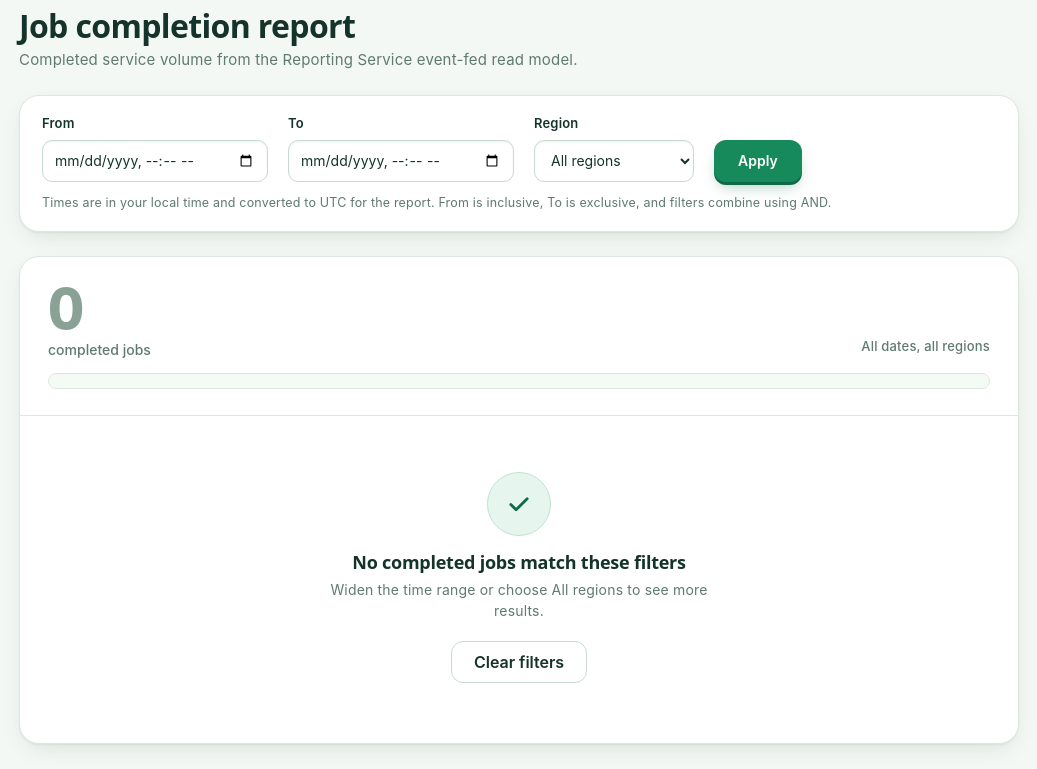
Test: Job completion dynamic report › displays validation feedback when backend returns 400 on apply
The image size is (1037, 769).
Expected: the heading "No completed jobs match these filters" is shown, [352, 550, 686, 574]
Click the button "Apply" at (758,161), box [714, 140, 802, 182]
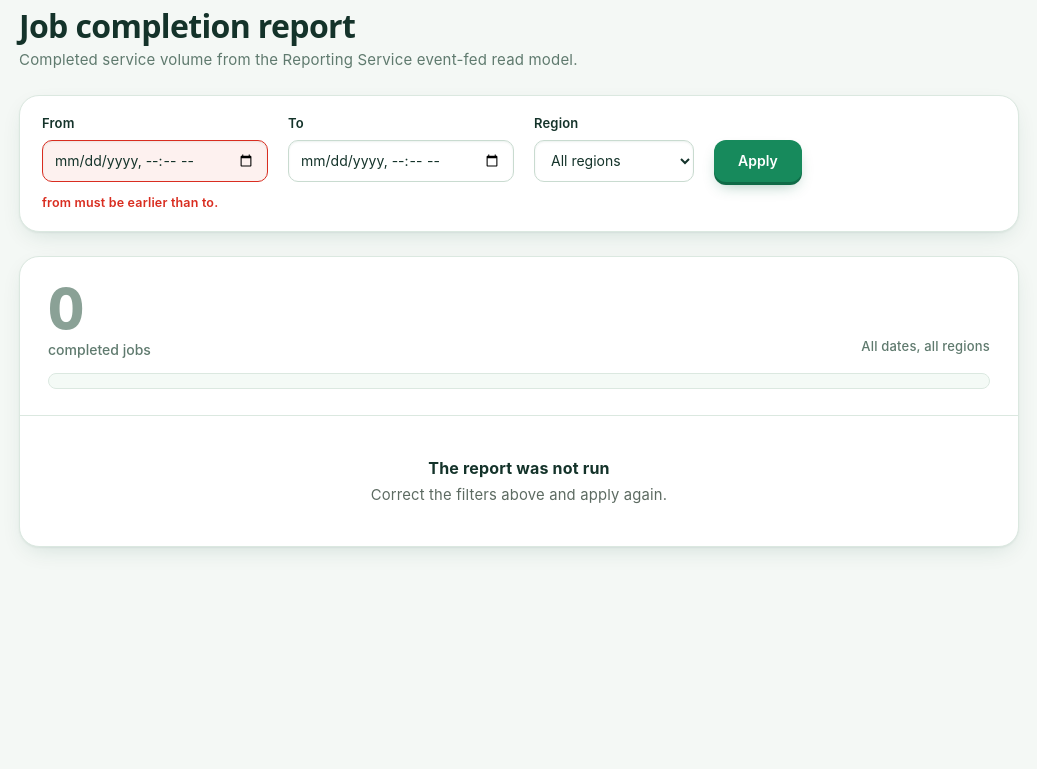
Now the text "from must be earlier than to." is shown, box [42, 195, 218, 210]
Now the text "The report was not run" is shown, box [428, 458, 610, 478]
